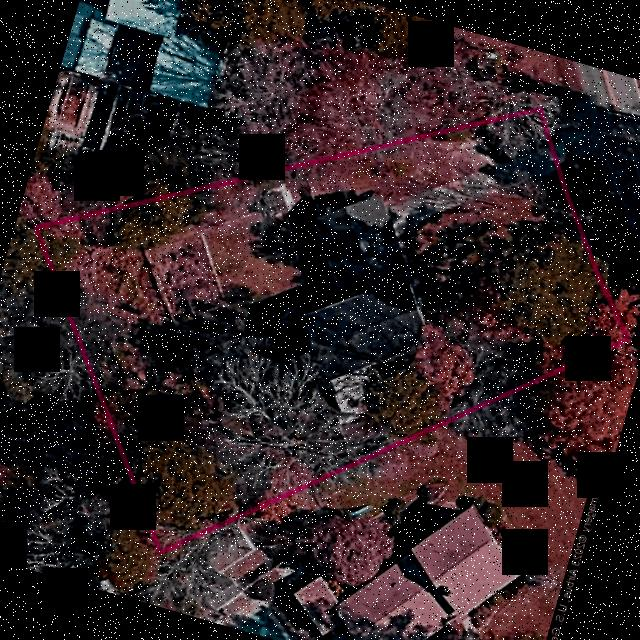Driveway: (389, 144, 559, 236)
Extra Driveway: (554, 127, 603, 165)
House: (299, 188, 431, 379)
Other: (331, 370, 366, 425), (259, 182, 296, 218)
